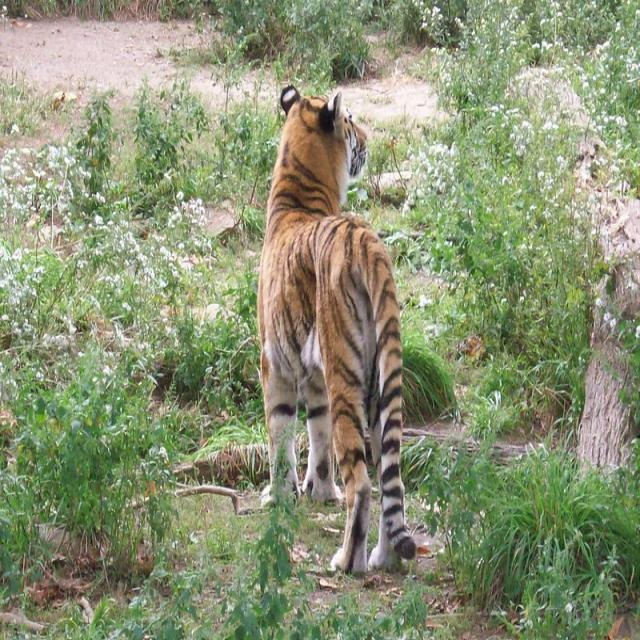Tiger: (256, 84, 414, 569)
